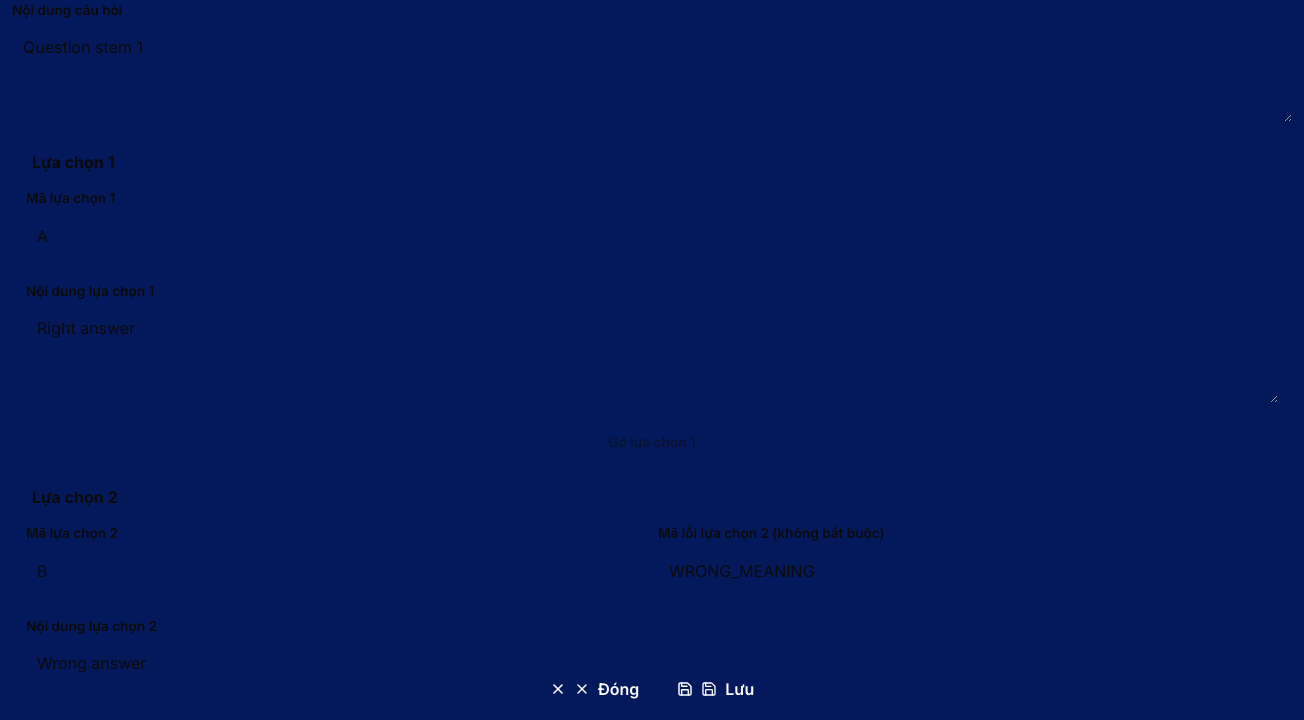
QuestionDraftItemEditor › requires nonblank content and valid distinct choice keys
Replace the text in the field labelled "Mã lựa chọn 2" with "A" at point(336, 571), box [26,550,646,592]
(page scrolled)
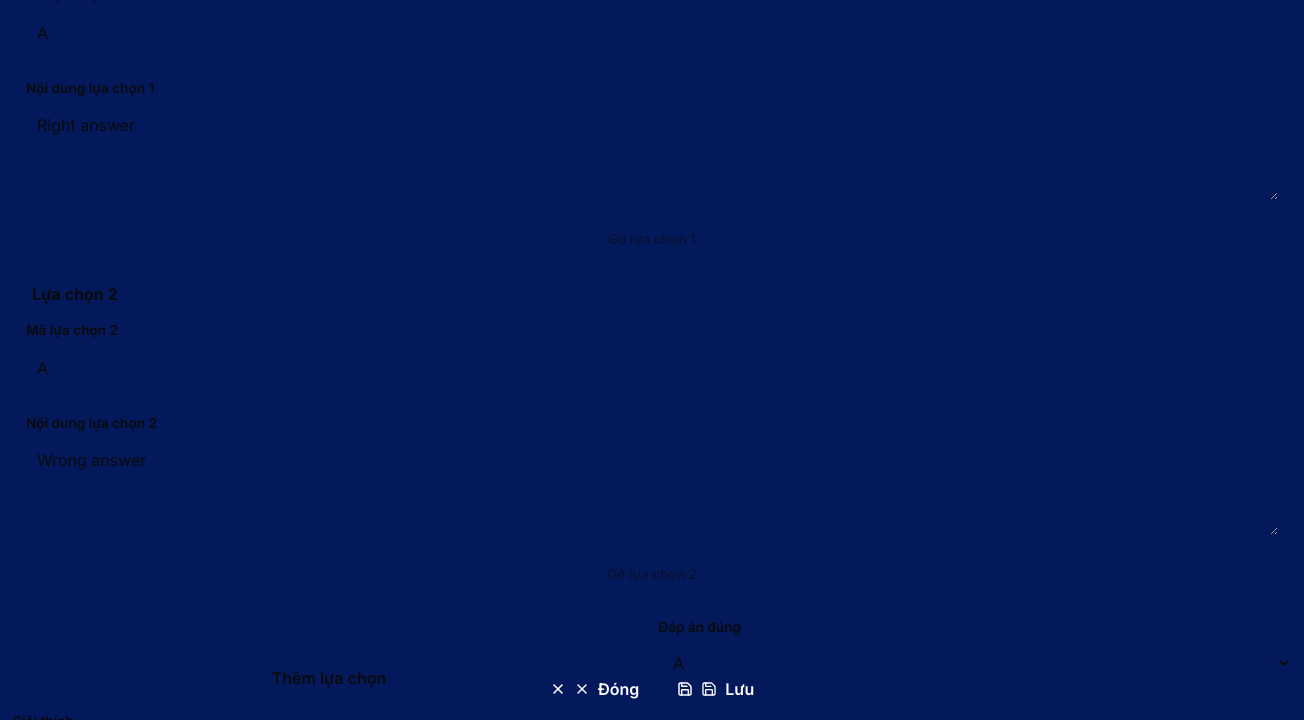
Submit the form
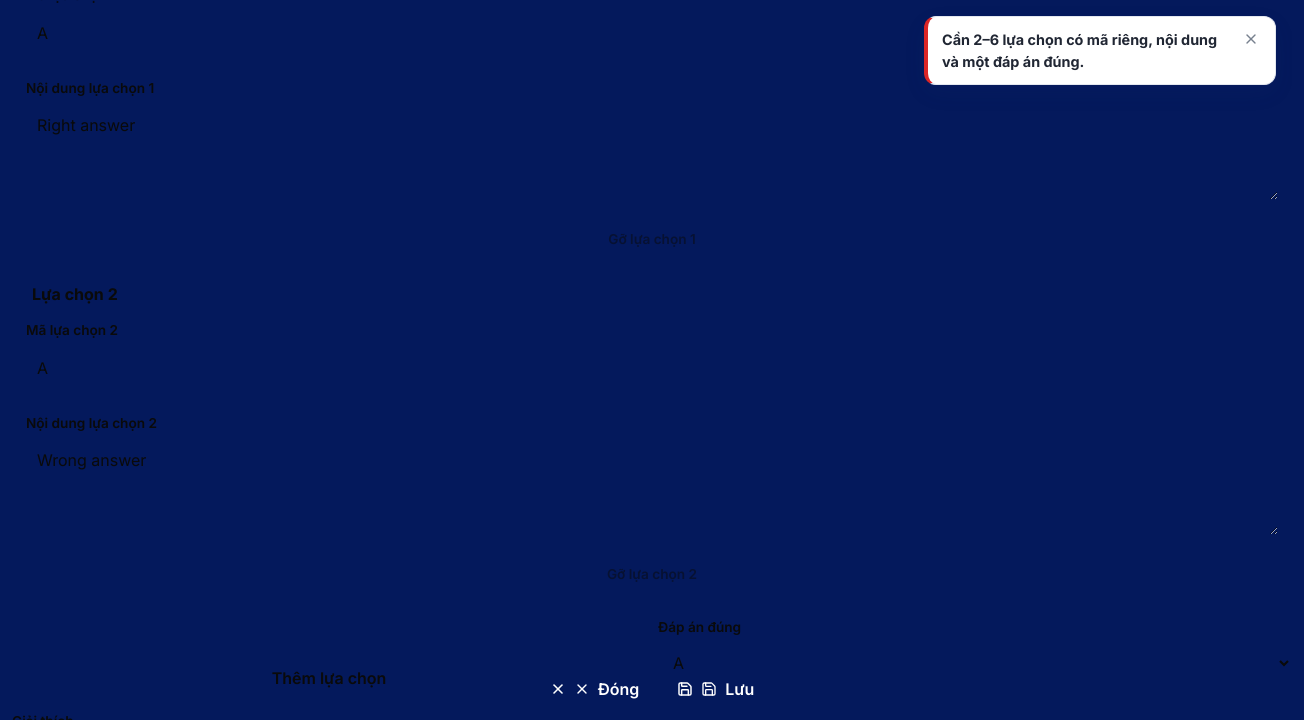
Expected: the message shows "Cần 2–6 lựa chọn", [942,31,1217,70]
